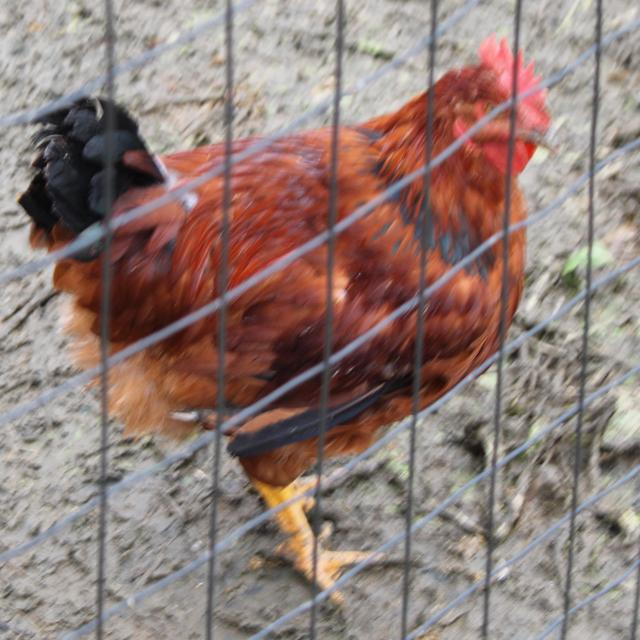cook: (5, 30, 616, 626)
